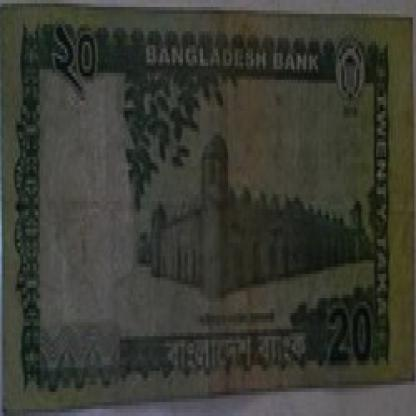Twenty: (323, 260, 371, 374), (58, 24, 115, 97)
